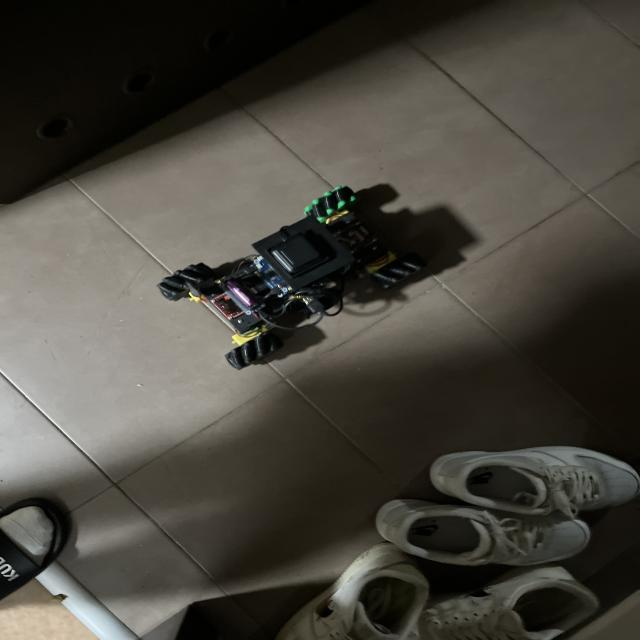robot: (158, 186, 426, 369)
